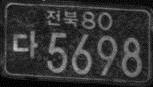0: (97, 11, 112, 30)
5: (45, 31, 67, 73)
6: (70, 32, 92, 75)
8: (121, 36, 142, 77), (81, 10, 95, 30)
9: (96, 35, 119, 78)
다: (12, 29, 38, 58)
전북_O: (46, 8, 79, 28)
